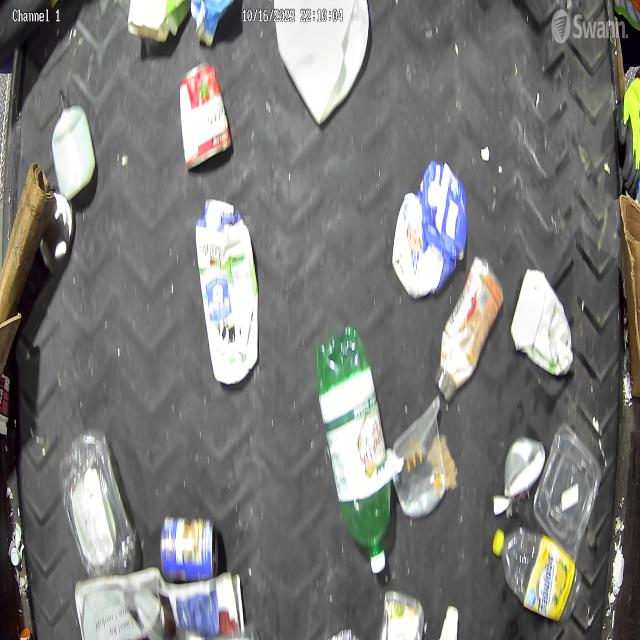can: (178, 61, 232, 172), (160, 514, 220, 580), (503, 437, 546, 498)
milk_jug: (273, 0, 370, 127)
non_white_jug: (195, 198, 259, 384), (393, 160, 469, 300), (511, 268, 573, 377)
plastic_bottle: (316, 326, 392, 576), (59, 428, 137, 579), (533, 422, 603, 554), (493, 527, 579, 624)
